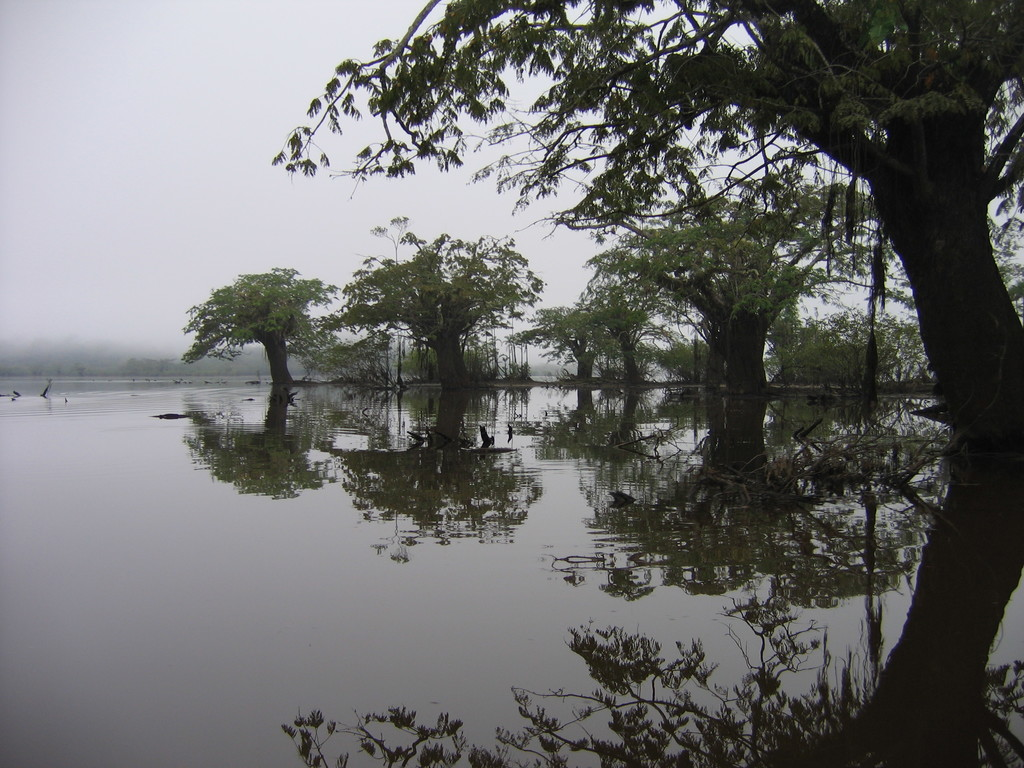Tree: (270, 0, 1023, 442), (186, 235, 324, 408)
